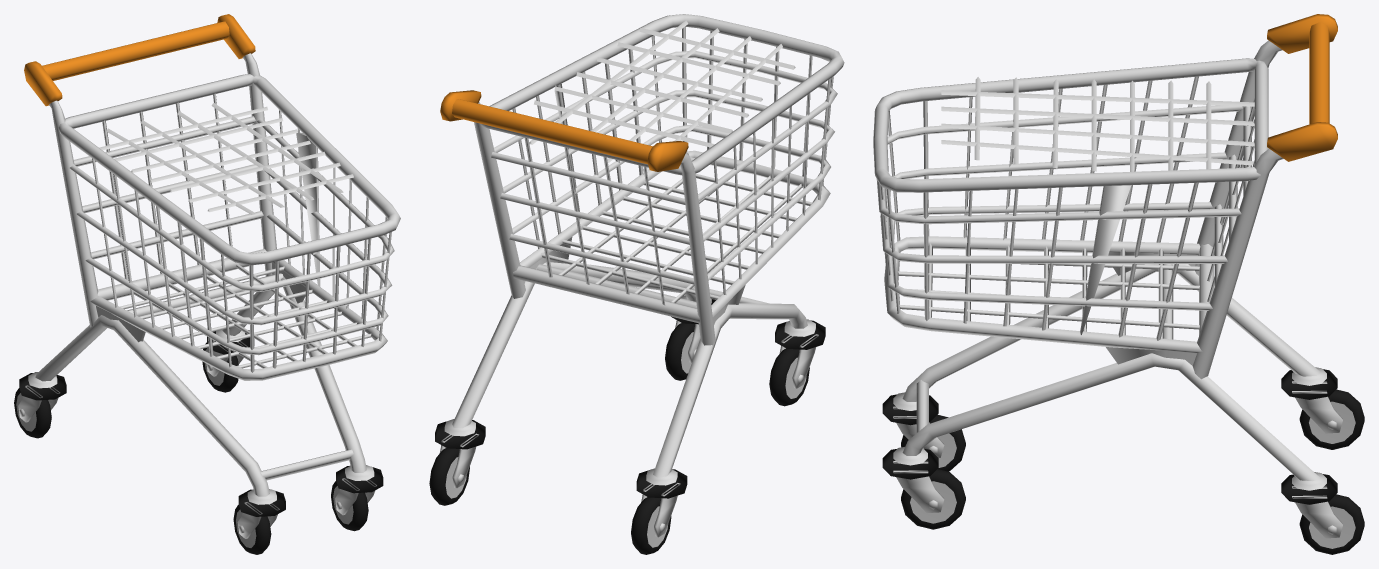
File: COMP_Einkaufswagen2.fbx
3 renders of one model, left to right at view 1: azimuth 30°, elevation 25°; view 2: azimuth 150°, elevation 25°; view 3: azimuth 270°, elevation 25°, orthographic. The views are drawn at different scales.
Visible parts, largest first — view 1: Einkaufswagen; view 2: Einkaufswagen; view 3: Einkaufswagen.
Part boxes in pixels (x1,y1,x2,y2): Einkaufswagen: (14,14,400,554); Einkaufswagen: (429,14,844,554); Einkaufswagen: (873,14,1364,554).
Size of the model in its own units: 8.63 by 13.51 by 13.96.
